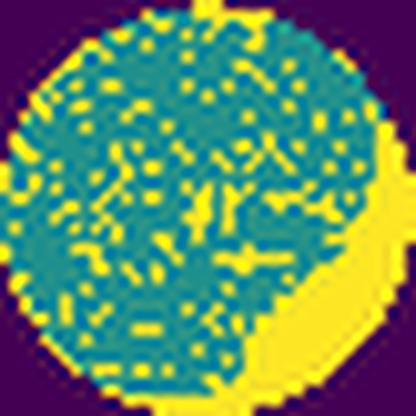Edge-Loc: (99, 108, 414, 416)
